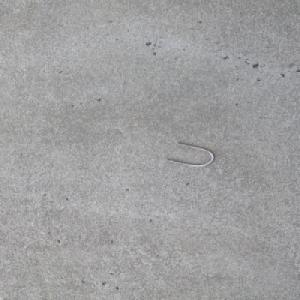ClampPart: (165, 142, 216, 167)
